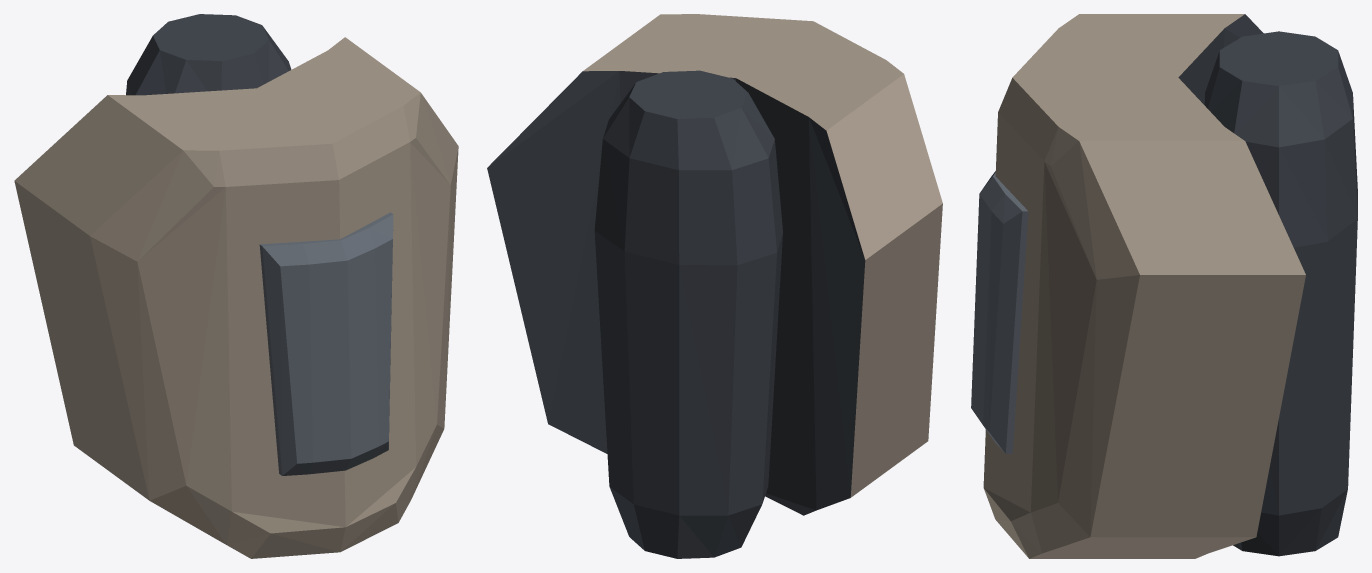
Rendered from forearm_medium.glb.
3 views of the same model, side by side, from view 1: azimuth 30°, elevation 25°; view 2: azimuth 150°, elevation 25°; view 3: azimuth 270°, elevation 25° (orthographic). The views are drawn at different scales.
Parts seen in each view (by area): view 1: forearm_medium; view 2: forearm_medium; view 3: forearm_medium.
Part boxes in pixels (x1=…): forearm_medium: x1=14, y1=14, x2=458, y2=558; forearm_medium: x1=487, y1=14, x2=942, y2=558; forearm_medium: x1=971, y1=14, x2=1357, y2=558.
Bounding box in the file's own units: 0.9 × 1 × 0.7457.
